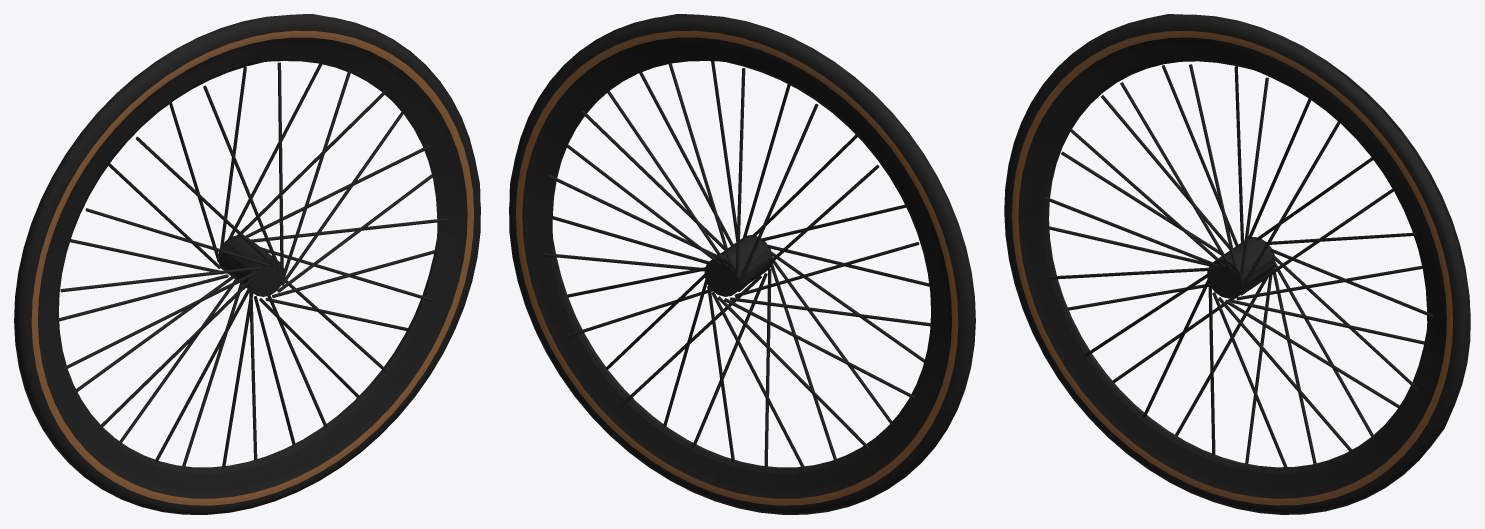
Rendered from bikeFrontWheel.glb.
3 views of the same model, side by side, from view 1: azimuth 30°, elevation 25°; view 2: azimuth 150°, elevation 25°; view 3: azimuth 330°, elevation 25° (orthographic).
Visible parts, largest first — view 1: outer, spokes, bike_front_wheel; view 2: outer, spokes, bike_front_wheel; view 3: outer, spokes, bike_front_wheel.
Part boxes in pixels (left/top/right/bottom): outer: left=14, top=14, right=480, bottom=514; spokes: left=59, top=62, right=447, bottom=467; bike_front_wheel: left=218, top=235, right=284, bottom=296; outer: left=509, top=14, right=975, bottom=514; spokes: left=543, top=61, right=931, bottom=470; bike_front_wheel: left=704, top=235, right=772, bottom=296; outer: left=1004, top=14, right=1470, bottom=514; spokes: left=1044, top=64, right=1433, bottom=467; bike_front_wheel: left=1207, top=237, right=1275, bottom=298.
Size of the model in its own units: 0.6597 by 0.6594 by 0.0824.
